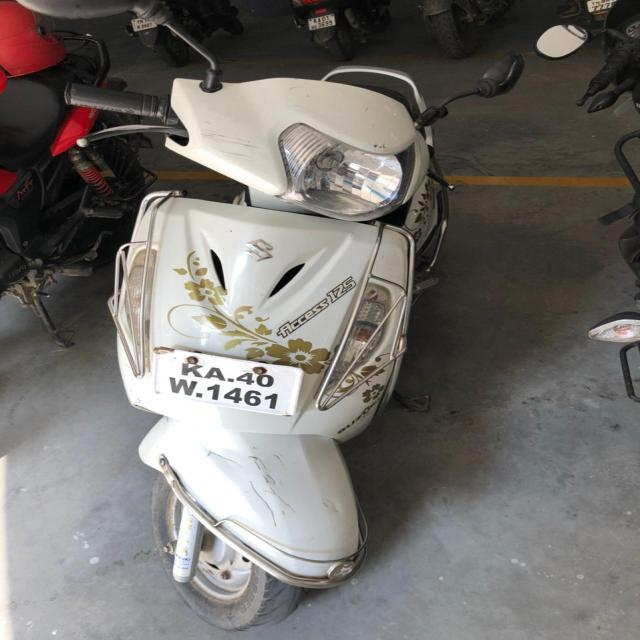license_plate: (155, 348, 303, 416)
